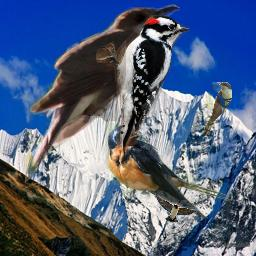Cuckoo: (25, 3, 180, 188), (203, 82, 232, 135)
Swallow: (106, 123, 231, 218), (155, 193, 198, 222)
Woodpecker: (96, 15, 190, 156)
